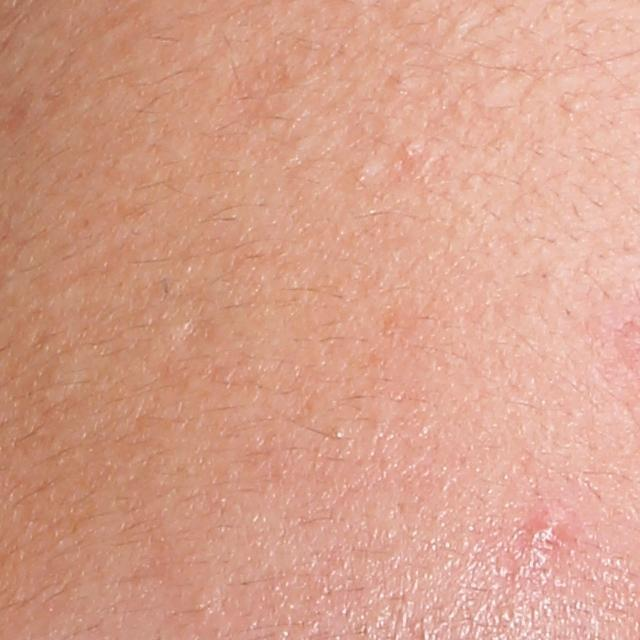comedo: (351, 159, 378, 185)
papule: (511, 510, 582, 580)
